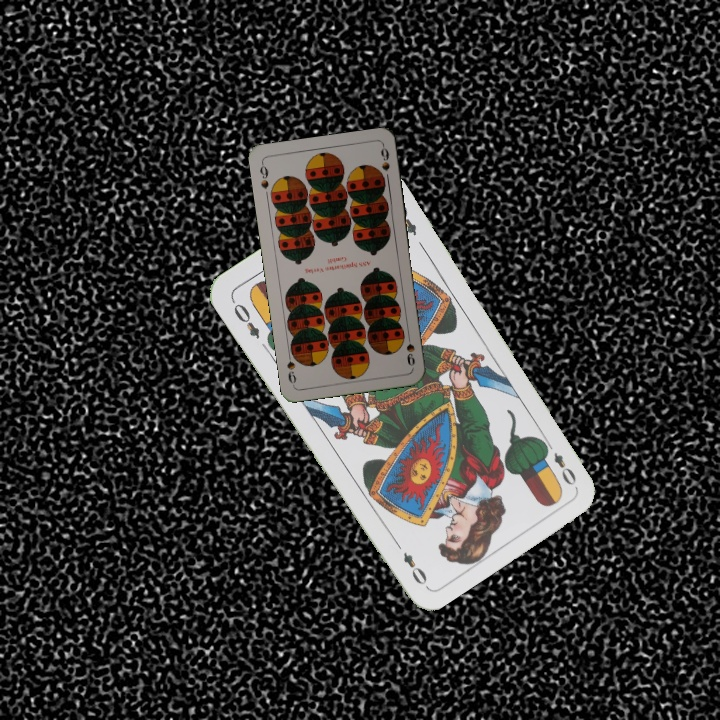EO: (540, 436, 579, 489), (227, 296, 263, 342)
S9: (402, 329, 418, 369), (256, 159, 271, 192)
